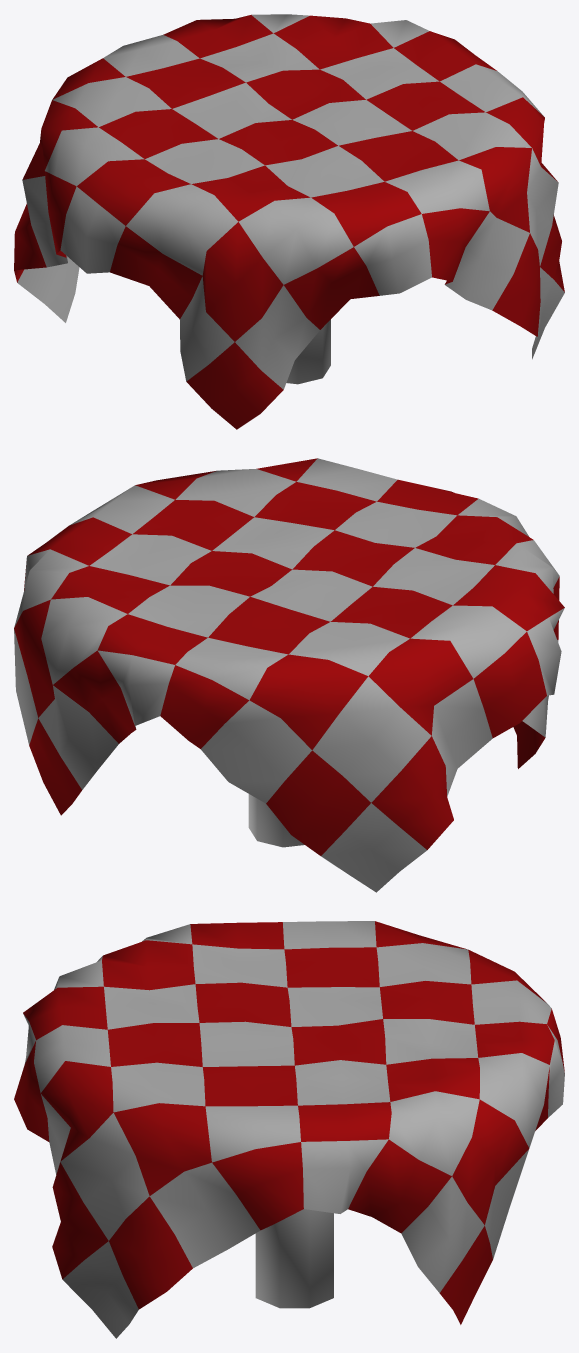
Rendered from masa.fbx.
3 views of the same model, one above another, from view 1: azimuth 30°, elevation 25°; view 2: azimuth 150°, elevation 25°; view 3: azimuth 270°, elevation 25° (orthographic). The views are drawn at different scales.
Visible parts, largest first — view 1: masa; view 2: masa; view 3: masa.
Part boxes in pixels (x1,y1,x2,y2): masa: (14, 14, 564, 429); masa: (14, 458, 564, 892); masa: (14, 921, 564, 1338).
Bounding box in the file's own units: 228 × 121 × 218.
